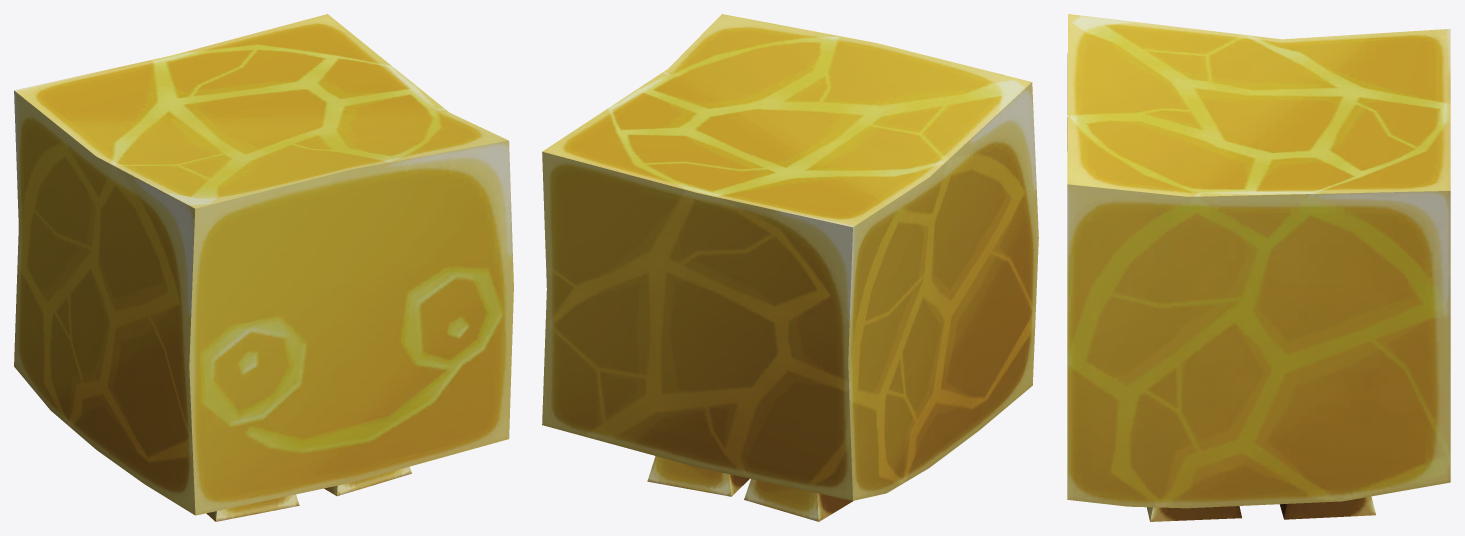
Rendered from pets_79.fbx.
3 renders of one model, left to right at view 1: azimuth 30°, elevation 25°; view 2: azimuth 150°, elevation 25°; view 3: azimuth 270°, elevation 25°, orthographic. The views are drawn at different scales.
Parts seen in each view (by area): view 1: Pet.093; view 2: Pet.093; view 3: Pet.093.
Part boxes in pixels (bbox=[...]): Pet.093: bbox=[14, 14, 513, 521]; Pet.093: bbox=[542, 14, 1038, 521]; Pet.093: bbox=[1067, 14, 1450, 521].
Bounding box in the file's own units: 0.382 × 0.3698 × 0.4012.
